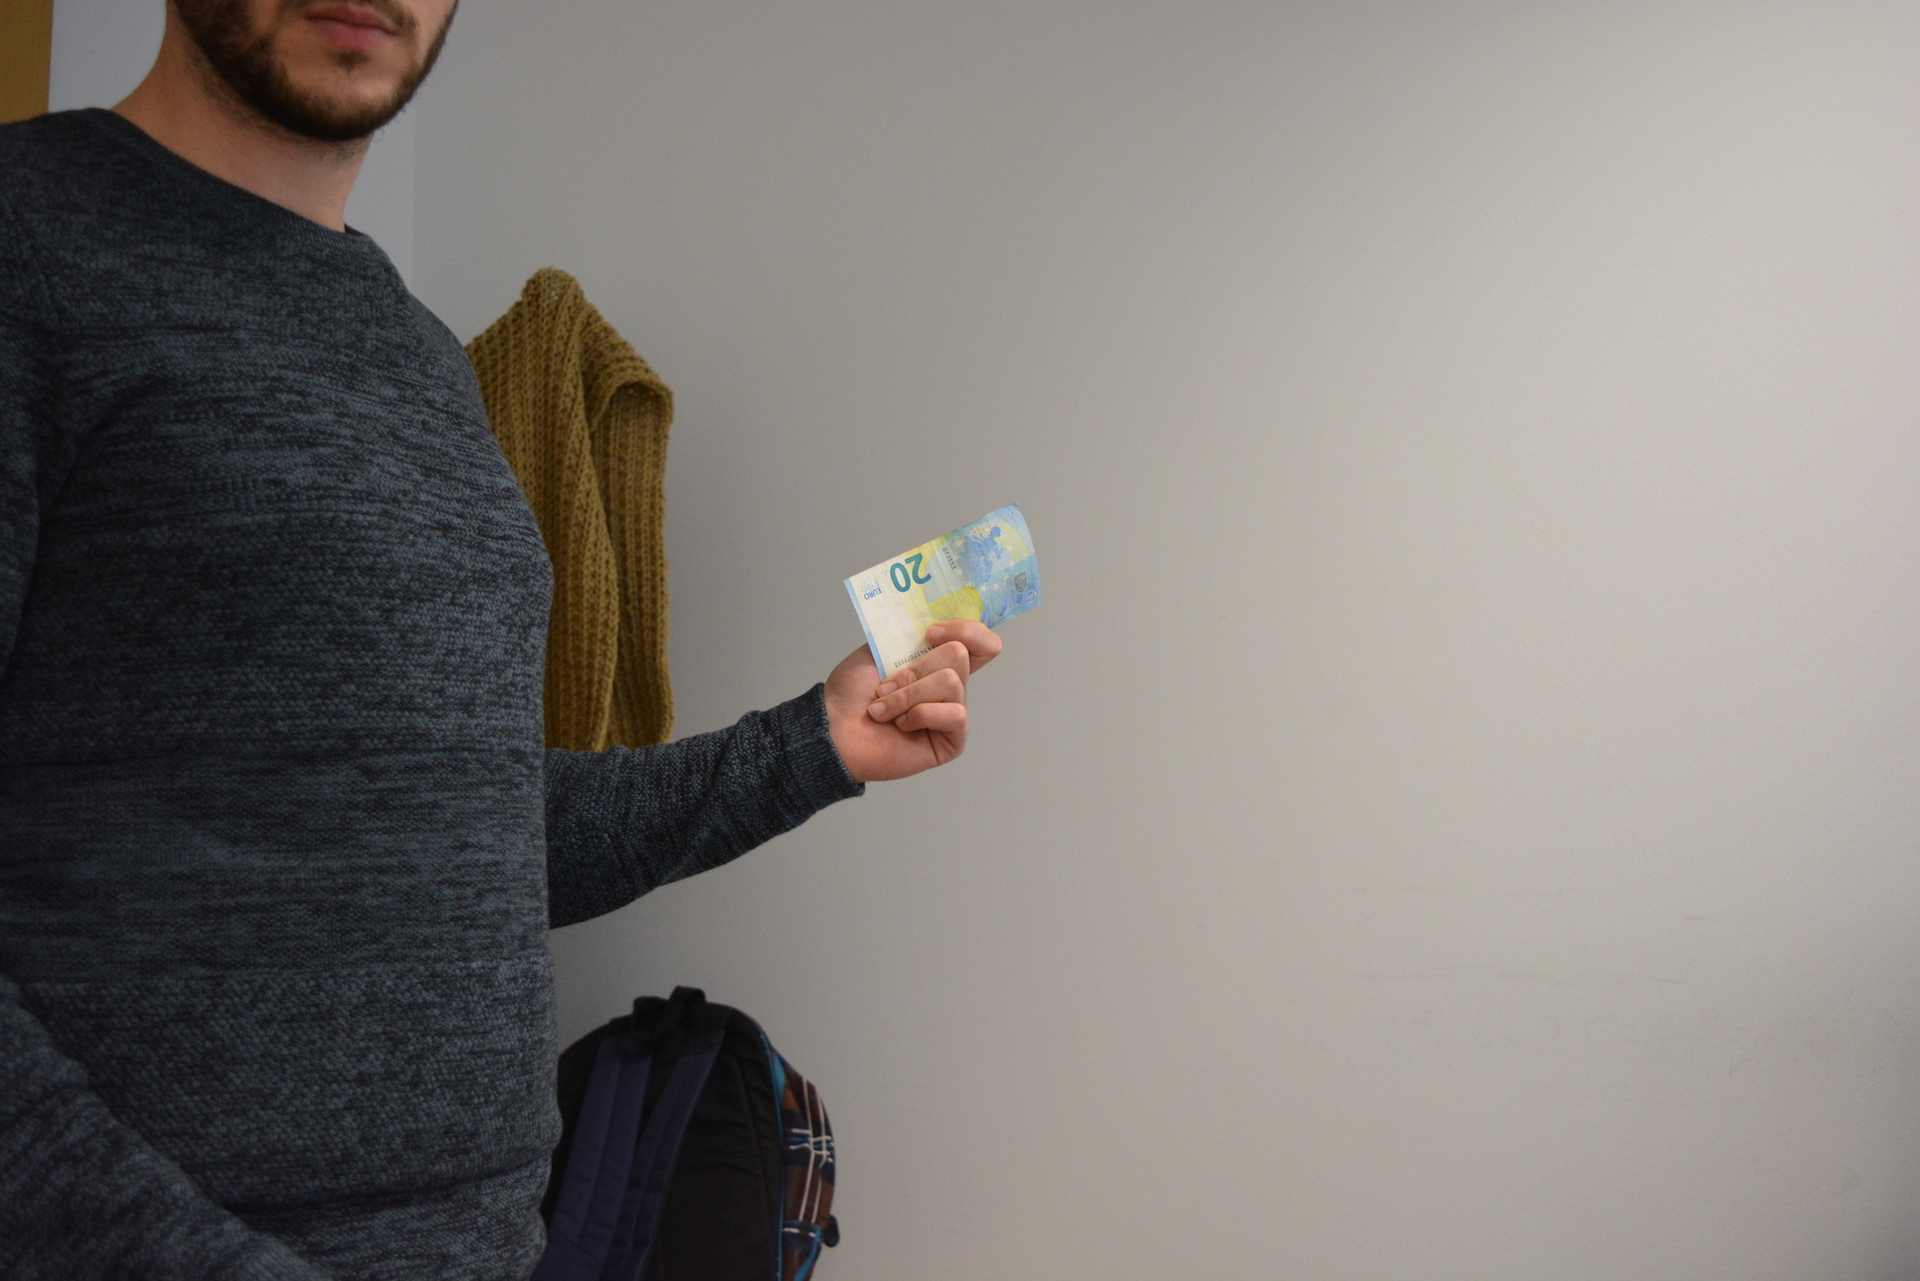billete: (842, 500, 1046, 685)
